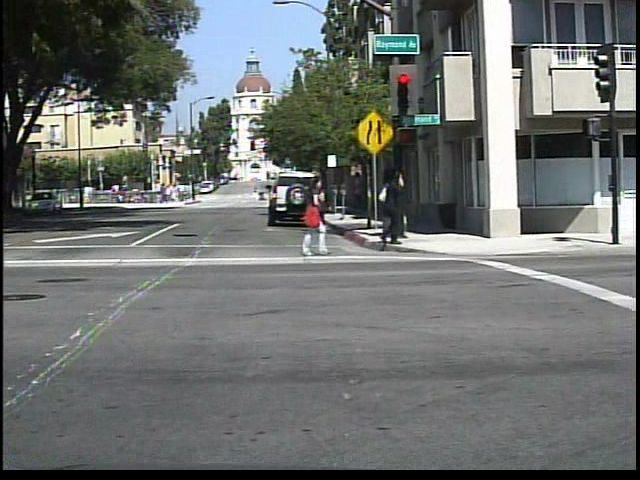person: (370, 165, 414, 251), (291, 172, 333, 256), (258, 188, 269, 204)
